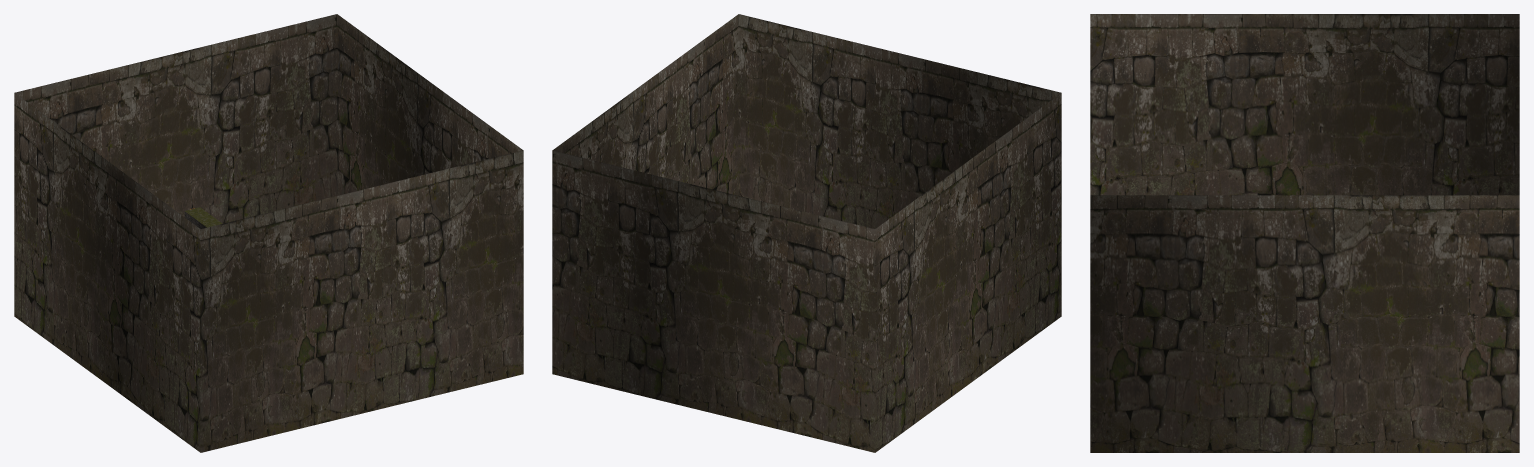
Rendered from Map6New.obj.
The picture shows the model from 3 angles, left to right: view 1: azimuth 30°, elevation 25°; view 2: azimuth 150°, elevation 25°; view 3: azimuth 270°, elevation 25°; orthographic projection. The views are drawn at different scales.
Bounding box in the file's own units: 50 × 33.14 × 50.
